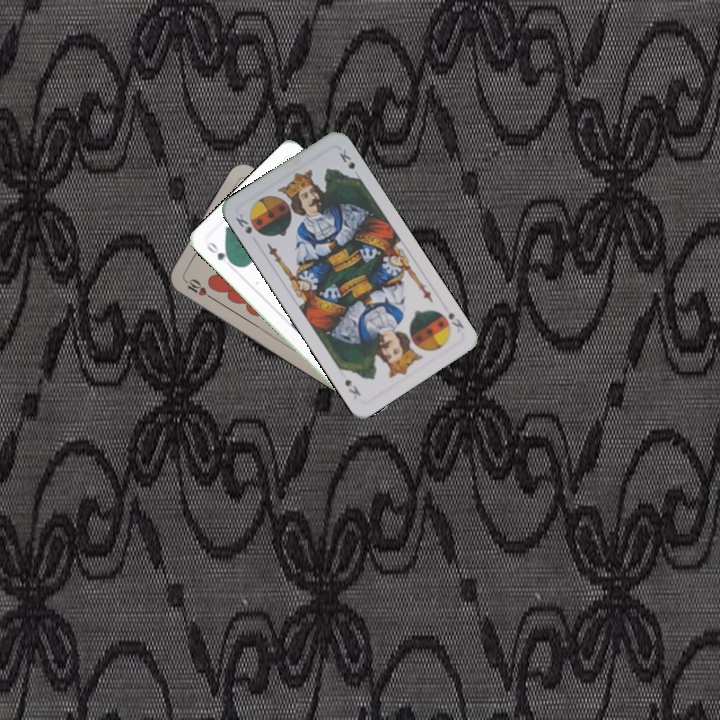GO: (202, 238, 237, 268)
H10: (180, 275, 216, 302)
SK: (231, 210, 262, 238), (444, 307, 466, 334)
